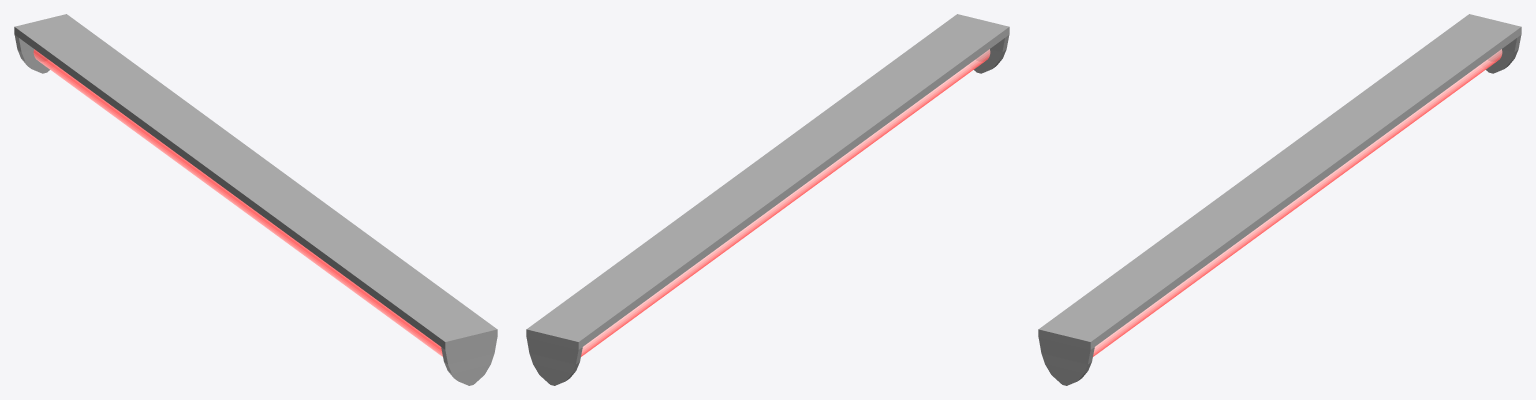
Rendered from Poster_light.fbx.
3 views of the same model, side by side, from view 1: azimuth 30°, elevation 25°; view 2: azimuth 150°, elevation 25°; view 3: azimuth 330°, elevation 25° (orthographic).
Visible parts, largest first — view 1: 立方体.002, 円柱.003, 立方体.003, 立方体.004; view 2: 立方体.002, 円柱.003, 立方体.004, 立方体.003; view 3: 立方体.002, 円柱.003, 立方体.003, 立方体.004.
Part boxes in pixels (<box>): 立方体.002: <box>14,14,497,349</box>; 円柱.003: <box>33,49,442,356</box>; 立方体.003: <box>441,337,497,385</box>; 立方体.004: <box>14,35,49,73</box>; 立方体.002: <box>526,14,1009,349</box>; 円柱.003: <box>581,49,990,356</box>; 立方体.004: <box>526,337,582,385</box>; 立方体.003: <box>974,35,1009,73</box>; 立方体.002: <box>1038,14,1521,349</box>; 円柱.003: <box>1093,49,1502,356</box>; 立方体.003: <box>1038,337,1094,385</box>; 立方体.004: <box>1486,35,1521,73</box>.
Size of the model in its own units: 14 by 12.73 by 200.
